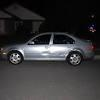doorouter-dent: (25, 45, 50, 59), (50, 44, 73, 58)
